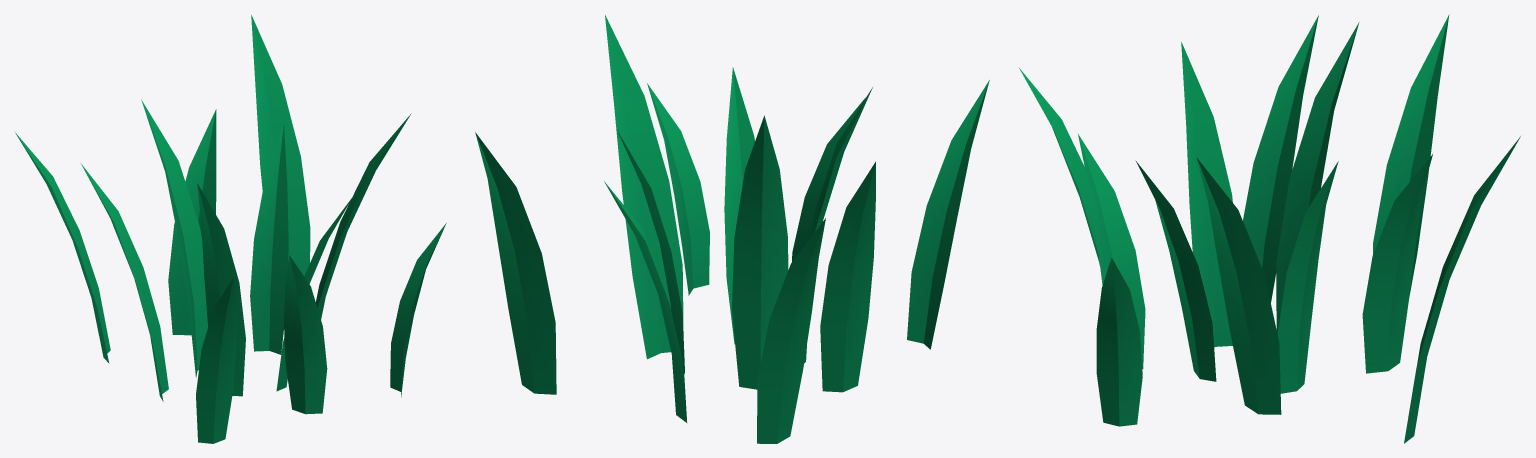
The model's file is Grass_2_D_Singlesided_Color2.fbx.
The picture shows the model from 3 angles, left to right: view 1: azimuth 30°, elevation 25°; view 2: azimuth 150°, elevation 25°; view 3: azimuth 270°, elevation 25°; orthographic projection. The views are drawn at different scales.
Parts seen in each view (by area): view 1: Grass_2_D_Singlesided_Color2; view 2: Grass_2_D_Singlesided_Color2; view 3: Grass_2_D_Singlesided_Color2.
Part boxes in pixels (bbox=[...]): Grass_2_D_Singlesided_Color2: bbox=[14, 15, 446, 443]; Grass_2_D_Singlesided_Color2: bbox=[475, 15, 989, 443]; Grass_2_D_Singlesided_Color2: bbox=[1019, 14, 1520, 443].
Bounding box in the file's own units: 1.08 × 0.9336 × 1.34.
